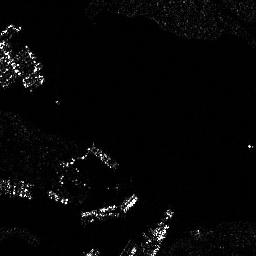ship: (87, 145, 120, 169)
